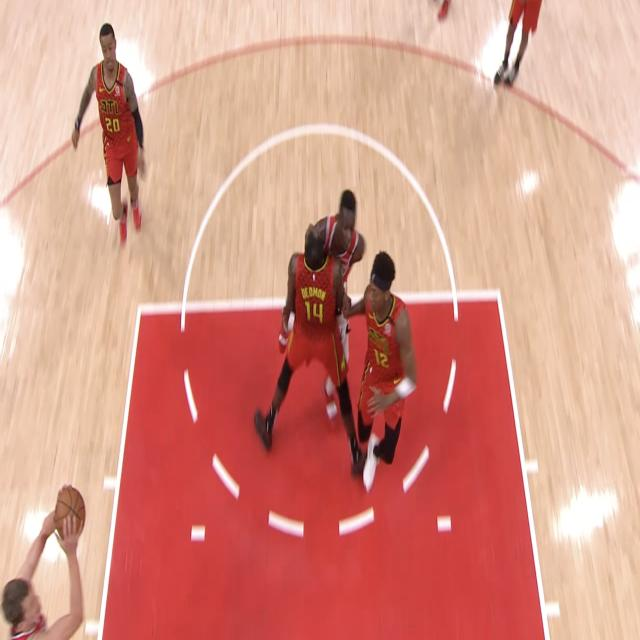Foul: (263, 184, 360, 491)
